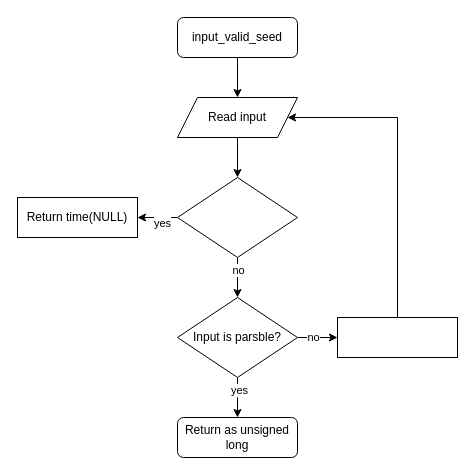
This 475x475 diagram has some shape labels left out. The shapes that lost their labels are listed below. From the top down, each one's centre as x and y in pixels, then its label:
(237,217): Input empty?
(397,337): Output: 'invalid ulong'
